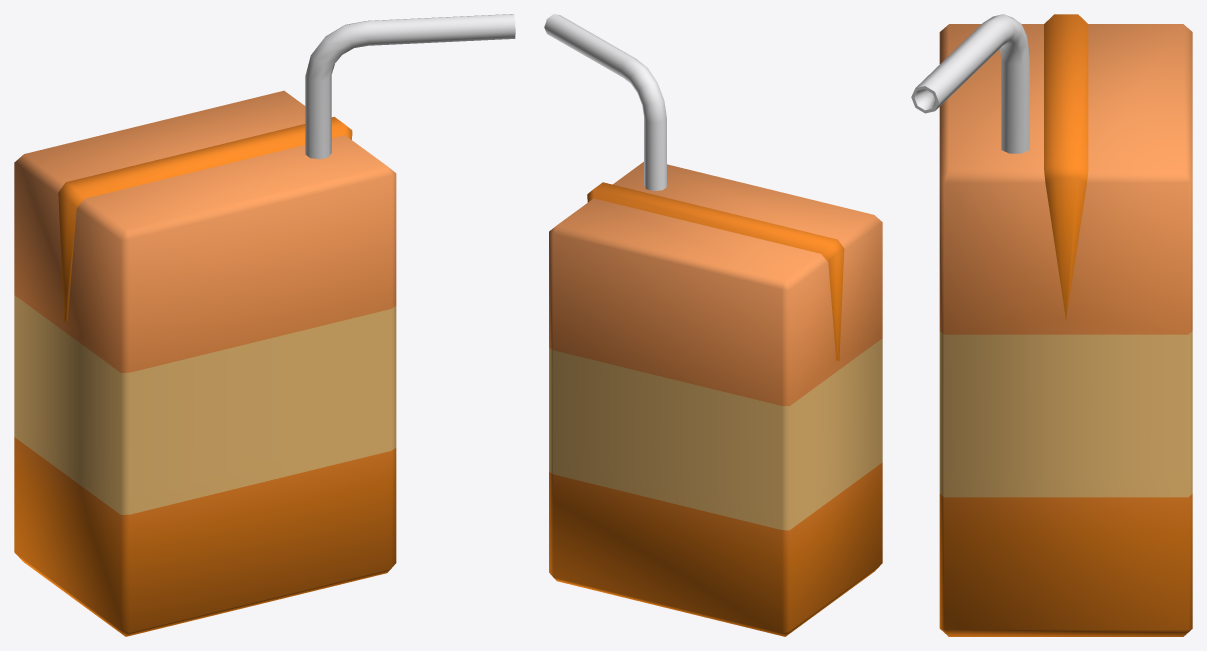
The model's file is Juice_mini_orange.fbx.
3 renders of one model, left to right at view 1: azimuth 30°, elevation 25°; view 2: azimuth 150°, elevation 25°; view 3: azimuth 270°, elevation 25°, orthographic. The views are drawn at different scales.
Parts seen in each view (by area): view 1: Juice_mini_orange, Juice_mini_orange.001; view 2: Juice_mini_orange, Juice_mini_orange.001; view 3: Juice_mini_orange, Juice_mini_orange.001.
Boxes of the visible parts, bbox=[...] form: Juice_mini_orange: bbox=[14, 90, 396, 636]; Juice_mini_orange.001: bbox=[305, 14, 515, 159]; Juice_mini_orange: bbox=[549, 162, 882, 636]; Juice_mini_orange.001: bbox=[544, 14, 666, 190]; Juice_mini_orange: bbox=[939, 14, 1192, 636]; Juice_mini_orange.001: bbox=[911, 14, 1029, 153].
Bounding box in the file's own units: 113 × 147 × 61.05.
